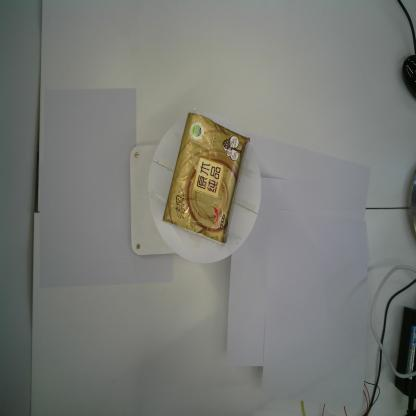Tissue: (162, 112, 251, 248)
